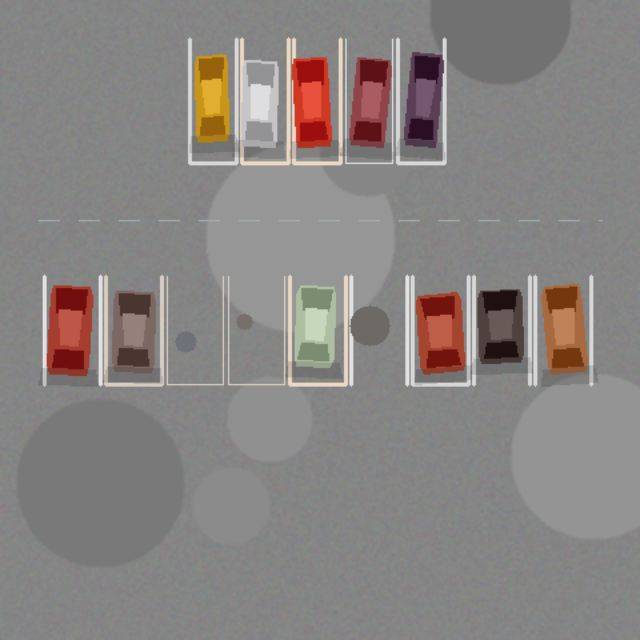space-empty: (167, 276, 223, 384), (228, 276, 284, 384), (351, 276, 407, 384)
space-occupied: (44, 276, 100, 384), (105, 276, 161, 384), (289, 276, 345, 384), (412, 276, 468, 384), (473, 276, 529, 384), (535, 276, 591, 384), (189, 39, 236, 163), (241, 39, 288, 163), (293, 39, 340, 163), (345, 39, 392, 163), (397, 39, 444, 163)
